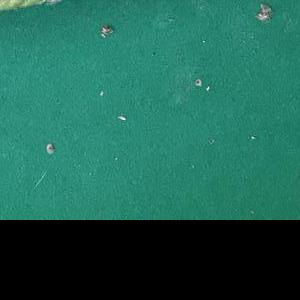Macho: (114, 113, 128, 123)
